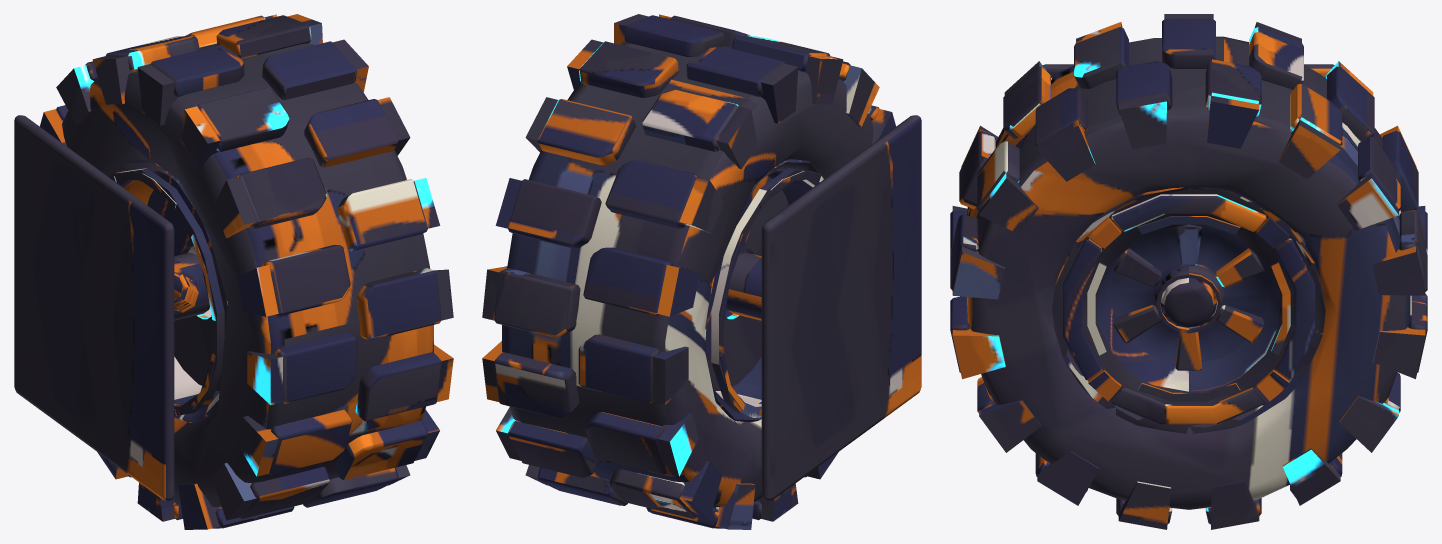
Rendered from R4M_WheelM_Side_Offroad_LOD1.fbx.
3 renders of one model, left to right at view 1: azimuth 30°, elevation 25°; view 2: azimuth 150°, elevation 25°; view 3: azimuth 270°, elevation 25°, orthographic.
Parts seen in each view (by area): view 1: R4M_WheelM_Side_Offroad_LOD1; view 2: R4M_WheelM_Side_Offroad_LOD1; view 3: R4M_WheelM_Side_Offroad_LOD1.
Boxes of the visible parts, bbox=[...] form: R4M_WheelM_Side_Offroad_LOD1: bbox=[14, 14, 453, 529]; R4M_WheelM_Side_Offroad_LOD1: bbox=[482, 14, 921, 529]; R4M_WheelM_Side_Offroad_LOD1: bbox=[950, 14, 1427, 529].
Size of the model in its own units: 0.451 by 0.7763 by 0.7763.
